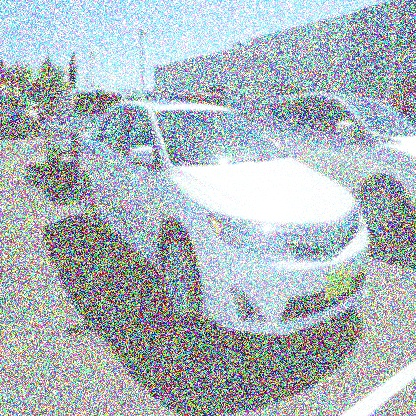Vehicle: (76, 100, 371, 340)
